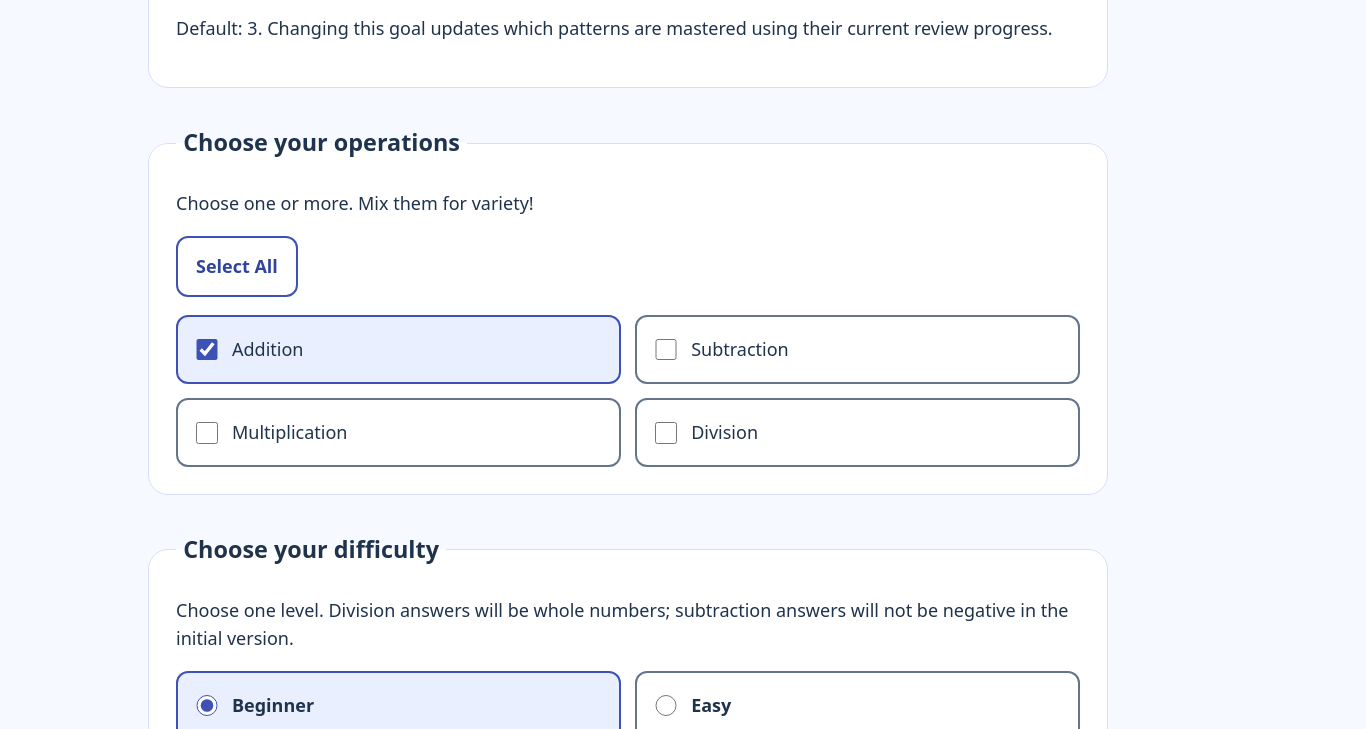
Test: saved statistics and settings › requires an operation before saving defaults
(page scrolled)
Click the checkbox labelled "Addition". click: click(207, 350)
box: [196,339,218,360]
(page scrolled)
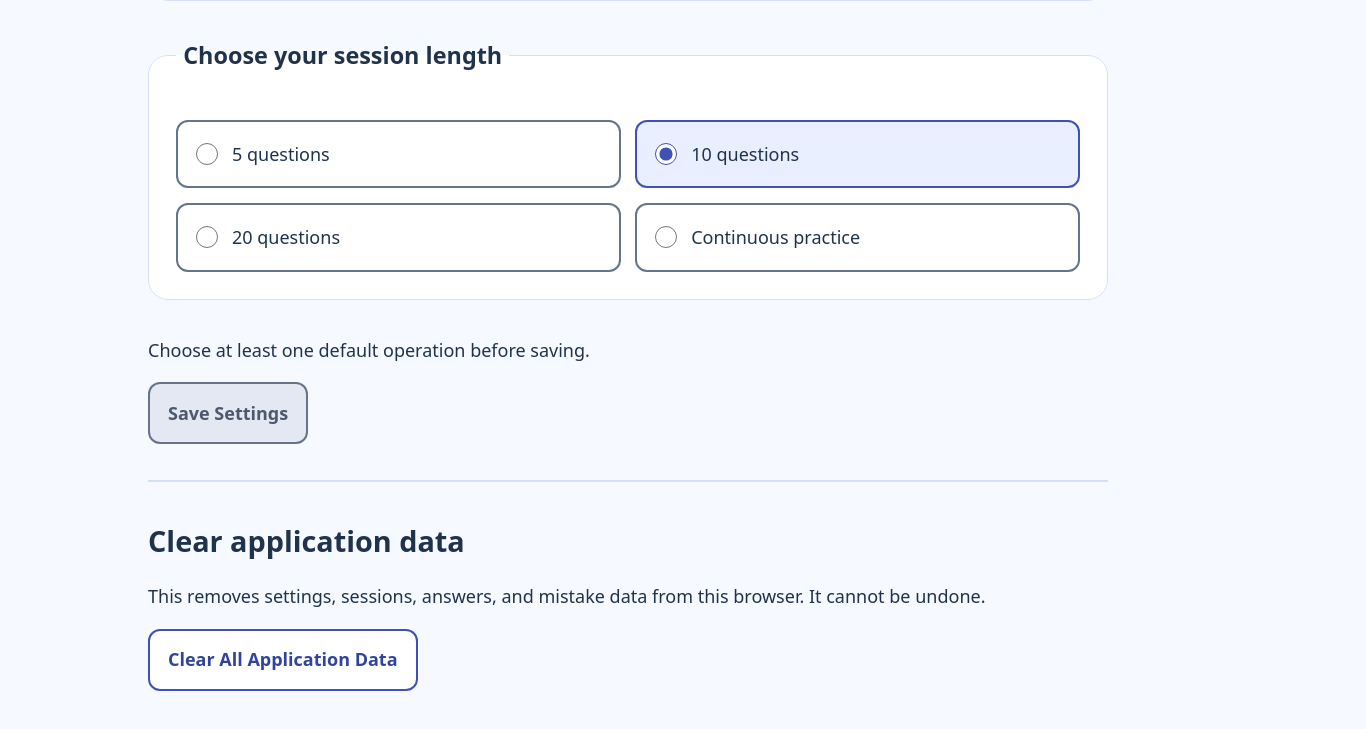
Expected: the button "Save Settings" is disabled, [148,382,308,444]
Expected: the text "Choose at least one default operation before saving." is shown, [148,338,590,362]
